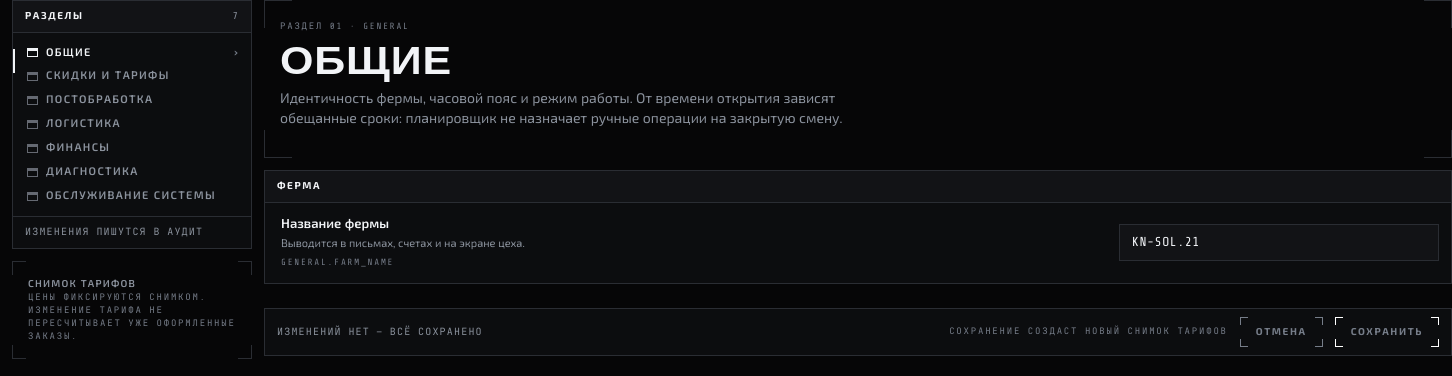
Test: the sections › never shows a saved secret back
The image size is (1452, 376).
Expected: the text "Название фермы" is shown, x1=281 y1=215 x2=389 y2=232
Click the tab "Финансы" at (132, 148), box x1=13 y1=136 x2=251 y2=160
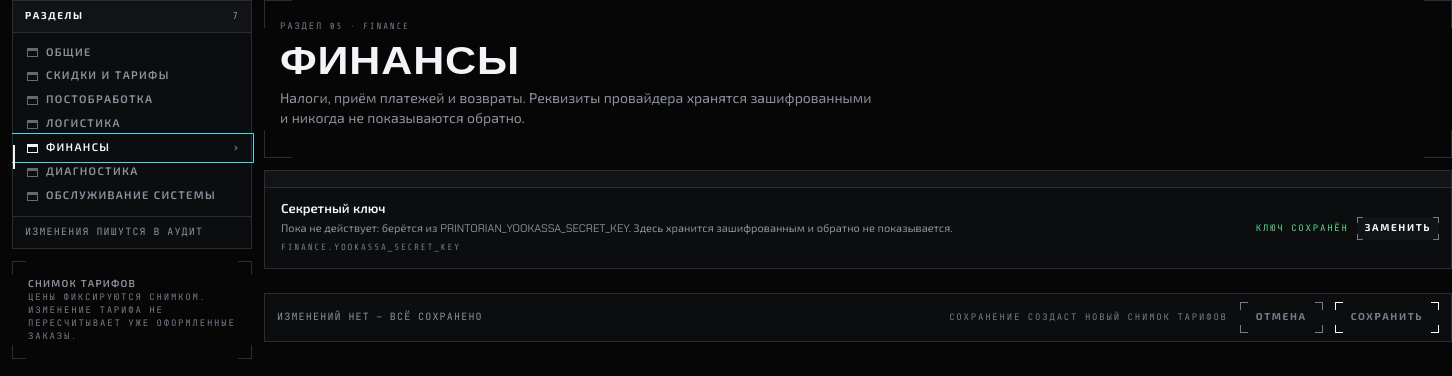
Result: the text "КЛЮЧ СОХРАНЁН" is shown at x1=1256 y1=222 x2=1349 y2=235
